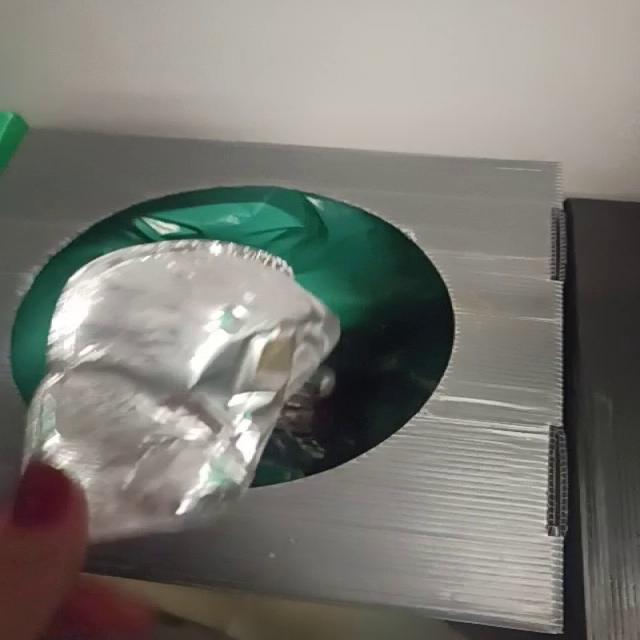bin: (1, 130, 567, 632)
metal: (25, 240, 337, 542)
